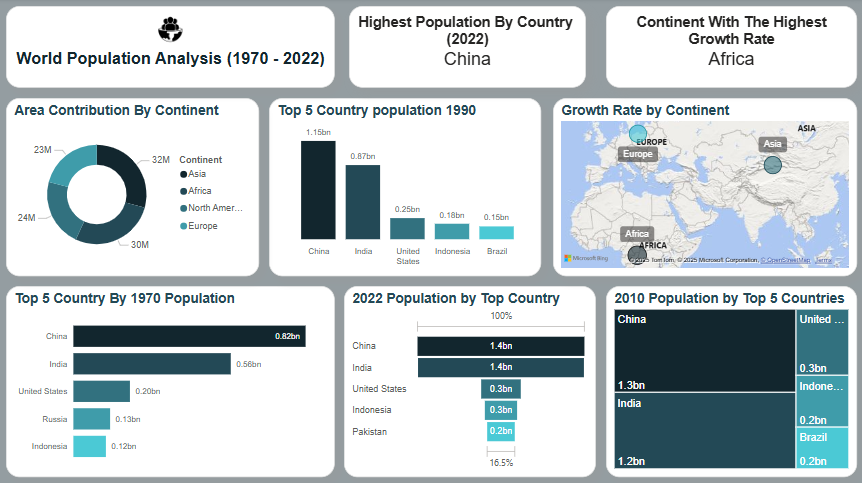

Layout of this report page (visuals, bound fields, positions):
{"tool":"powerbi","page":{"name":"MAIN BOARD","canvas":[1280,720],"ordinal":0},"visuals":[{"type":"barChart","title":"Top 5 Country By 1970 Population","fields":{"Category":["world_population.Country/Territory"],"Y":["Sum(world_population.1970 Population)"]},"box":[14.7,423.2,483.4,280.7],"z":0},{"type":"clusteredColumnChart","title":"Top 5 Country population 1990","fields":{"Y":["Sum(world_population.1990 Population)"],"Category":["world_population.Country/Territory"]},"box":[401.1,146.9,399.7,261.6],"z":1000},{"type":"treemap","title":"2010 Population by Top 5 Countries","fields":{"Group":["world_population.Country/Territory"],"Values":["Sum(world_population.2010 Population)"]},"box":[896.3,423.2,368.8,280.7],"z":2000},{"type":"funnel","title":"2022 Population by Top Country","fields":{"Category":["world_population.Country/Territory"],"Y":["Sum(world_population.2022 Population)"]},"box":[511.3,423.2,370.3,280.7],"z":3000},{"type":"map","title":"Growth Rate by Continent","fields":{"Category":["world_population.Continent"],"Size":["Sum(world_population.Growth Rate)"]},"box":[818.4,146.9,446.7,261.6],"z":4000},{"type":"donutChart","title":"Area Contribution By Continent","fields":{"Category":["world_population.Continent"],"Y":["Sum(world_population.Area (km²))"]},"box":[14.7,146.9,371.8,261.6],"z":5000},{"type":"textbox","box":[14.7,11.8,483.4,120.5],"z":6000},{"type":"image","box":[230.7,20.6,51.4,51.4],"z":7000},{"type":"textbox","box":[518.7,11.8,348.2,120.5],"z":8000},{"type":"textbox","box":[896.3,11.8,368.8,120.5],"z":9000}]}

Visuals, with their boxes in screenshot pixels (x1, y1, x2, y2), scaled from the page's 1280x720 canvas onto the 862x483 screenshot:
"Top 5 Country By 1970 Population" barChart: bbox=[10, 284, 335, 472]
"Top 5 Country population 1990" clusteredColumnChart: bbox=[270, 99, 539, 274]
"2010 Population by Top 5 Countries" treemap: bbox=[604, 284, 852, 472]
"2022 Population by Top Country" funnel: bbox=[344, 284, 594, 472]
"Growth Rate by Continent" map: bbox=[551, 99, 852, 274]
"Area Contribution By Continent" donutChart: bbox=[10, 99, 260, 274]
textbox: bbox=[10, 8, 335, 89]
image: bbox=[155, 14, 190, 48]
textbox: bbox=[349, 8, 584, 89]
textbox: bbox=[604, 8, 852, 89]
